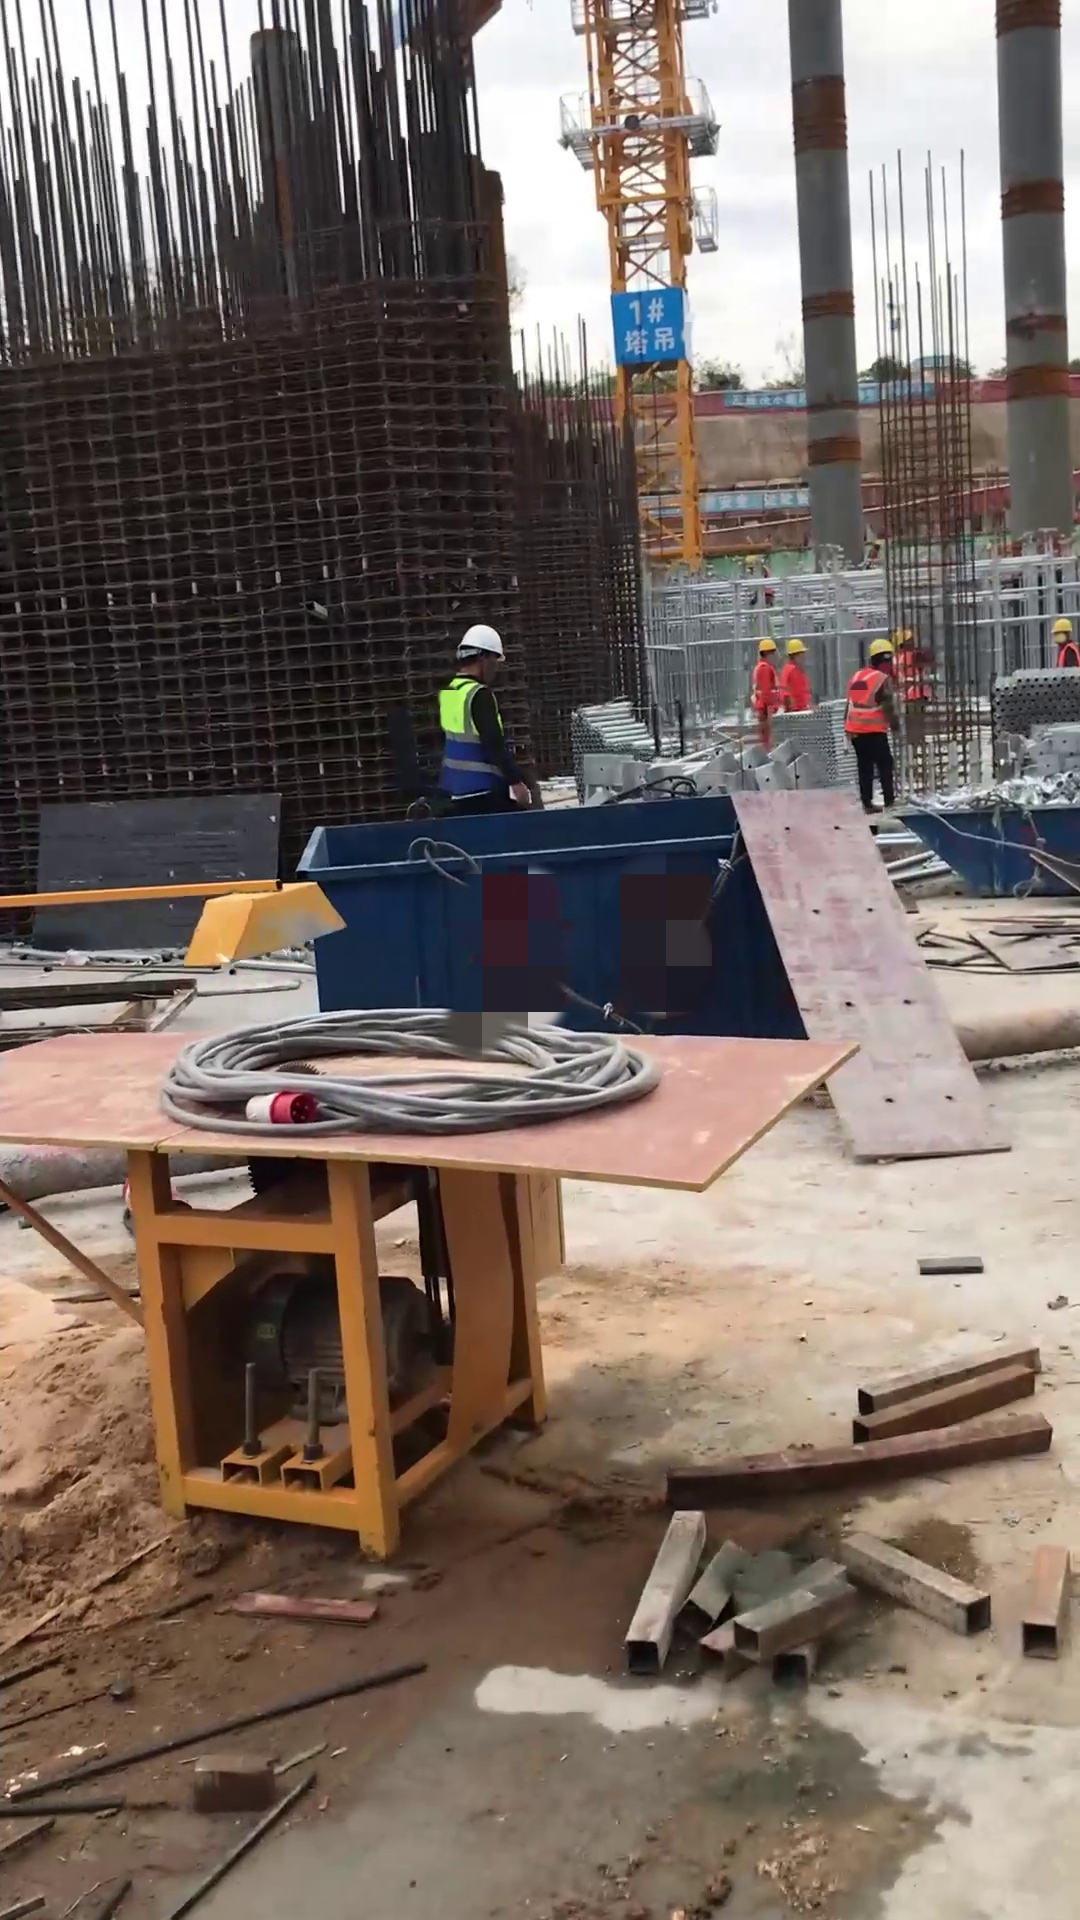cutter: (1, 877, 859, 1568)
helmet: (452, 621, 506, 667), (867, 635, 894, 663), (890, 626, 914, 647), (784, 637, 809, 657), (756, 635, 778, 654), (1050, 617, 1074, 634)
hopper: (298, 790, 806, 1047), (899, 800, 1080, 895)
person: (436, 620, 536, 817), (840, 636, 903, 816), (749, 636, 781, 749), (782, 637, 812, 712), (1051, 617, 1080, 669)
scaffold: (568, 693, 686, 793), (783, 702, 864, 788), (988, 665, 1080, 738)
slogan: (612, 286, 682, 360), (700, 487, 810, 510), (727, 387, 806, 412)
vest: (437, 676, 505, 795), (841, 666, 891, 735), (896, 647, 929, 701), (750, 657, 778, 711), (781, 660, 808, 711), (1055, 641, 1080, 665)
